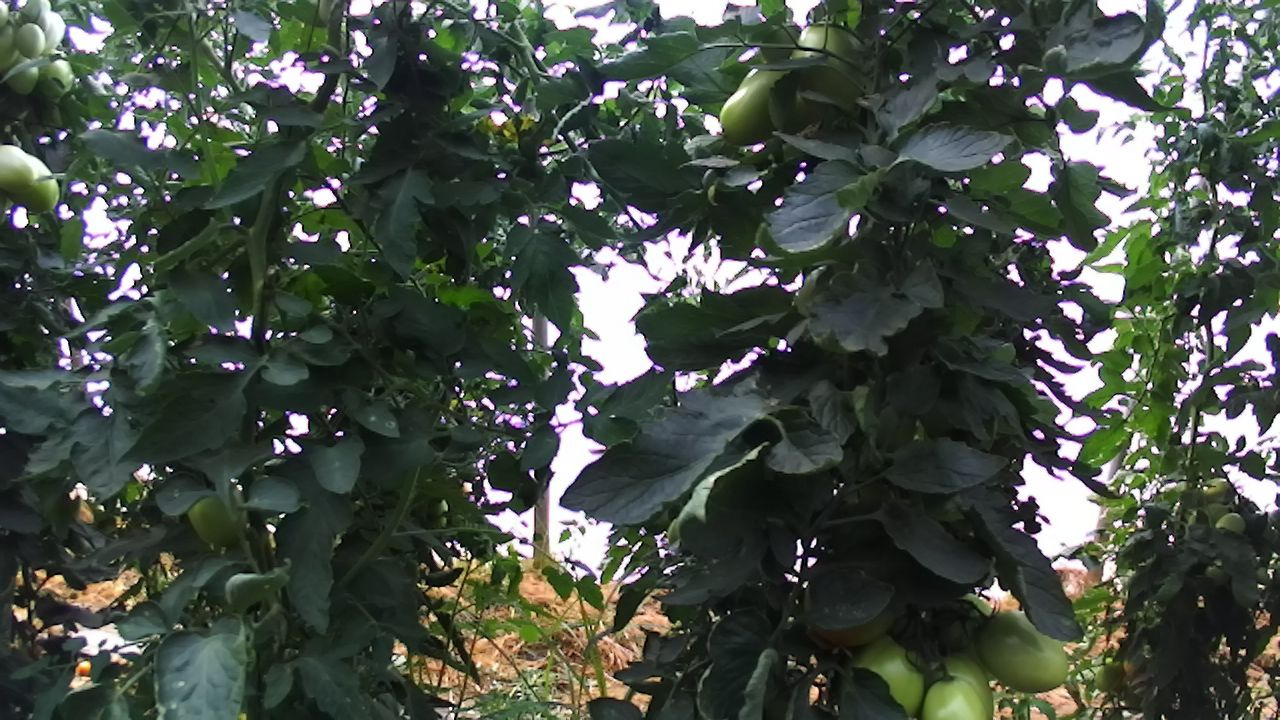tomato: (972, 602, 1072, 696), (716, 55, 807, 143), (919, 646, 1000, 720), (7, 151, 64, 213), (0, 143, 39, 198), (14, 20, 47, 60)
